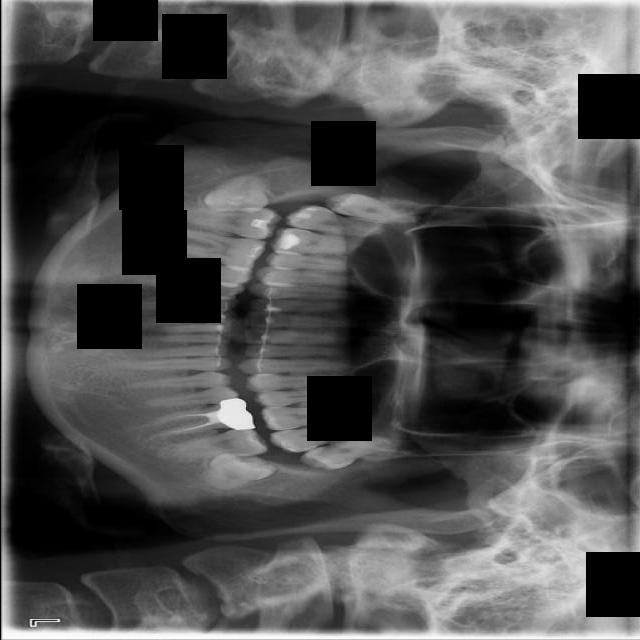3M ESPE Implant: (321, 186, 419, 229)
52: (230, 199, 282, 247), (213, 394, 254, 436), (267, 223, 313, 260), (281, 203, 332, 232)
73: (146, 400, 230, 450), (46, 610, 60, 618)
BioHorizons Implant: (266, 419, 360, 457)
BioLife Implant: (295, 431, 394, 478)
Biomet 3i Implant: (203, 452, 275, 490)
Blue Sky Bio Implant: (173, 425, 269, 464)
Caries: (282, 201, 383, 241)
Implant: (177, 203, 281, 241)
Keystone Dental Implant: (202, 174, 268, 213)
